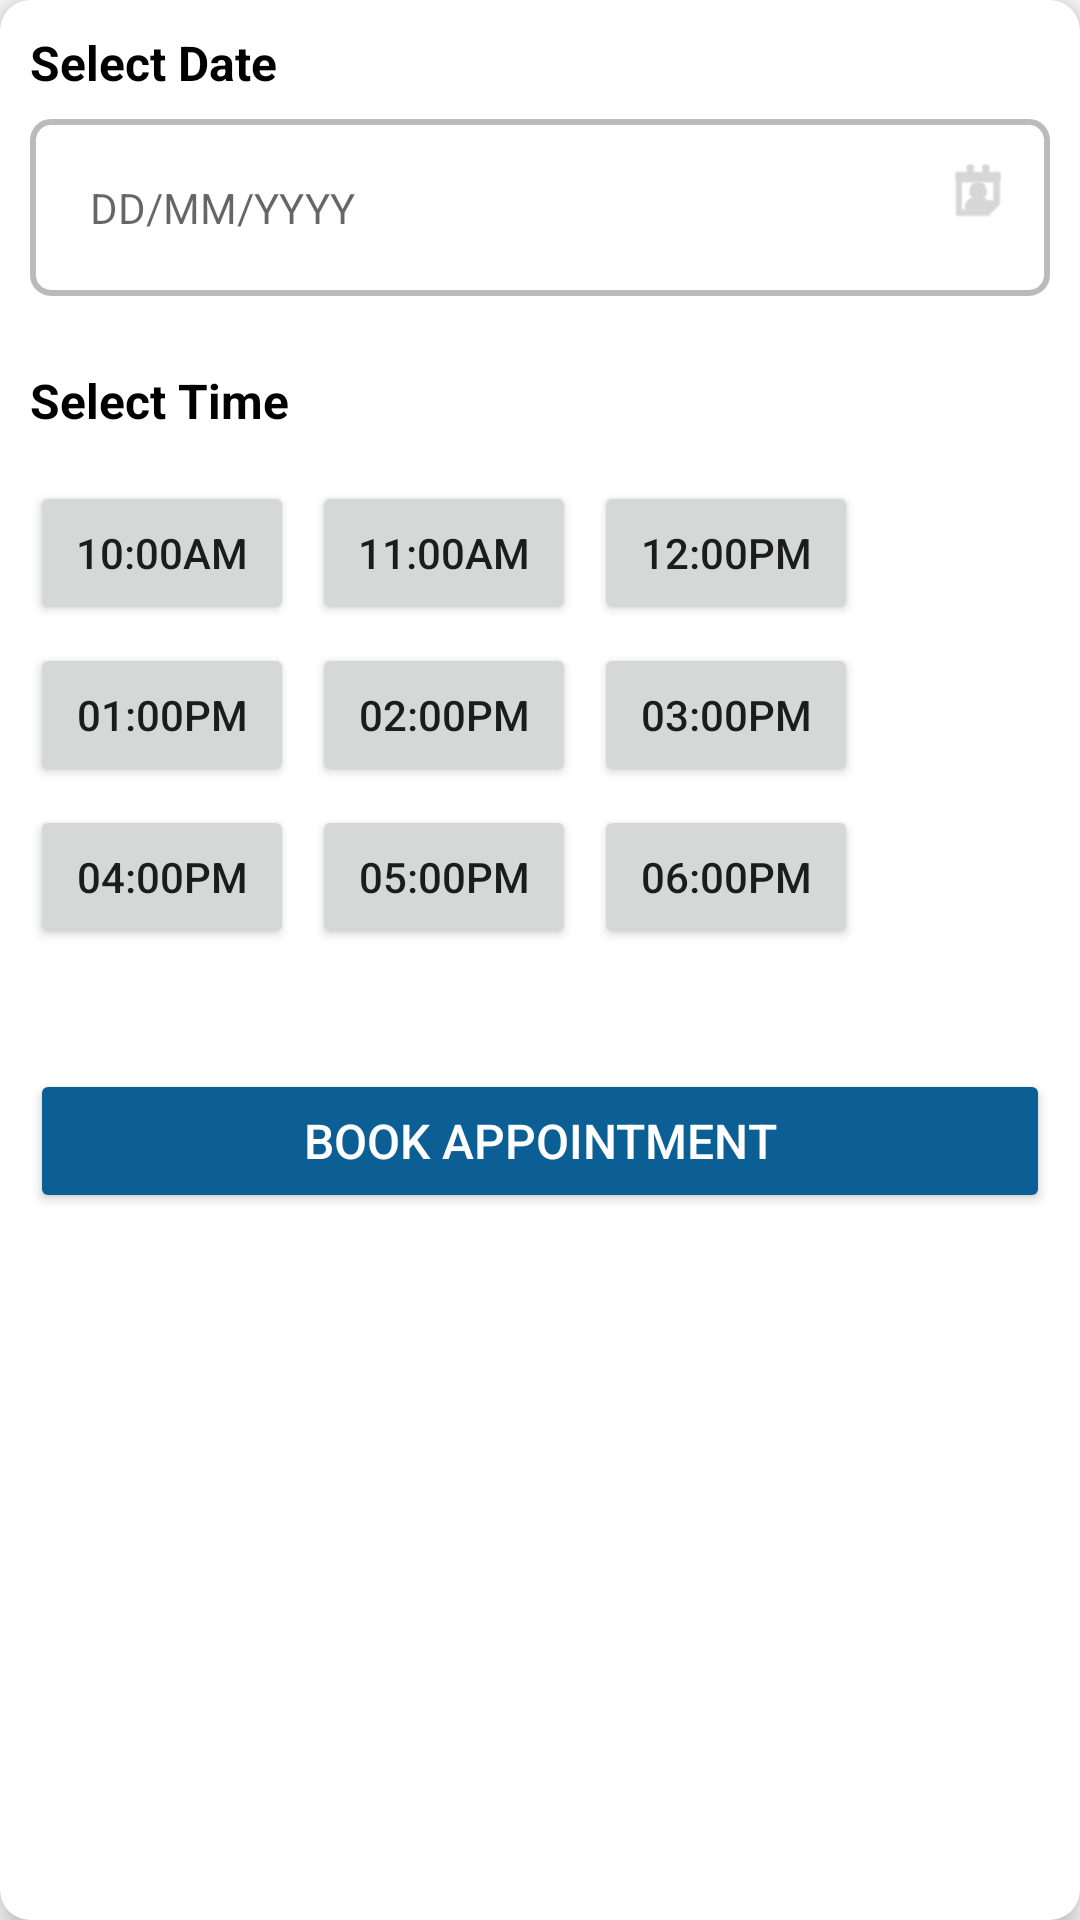

Point at icon controls on the screen. Image size 1080×1920, points as [x,y].
calendar: [978,190]
